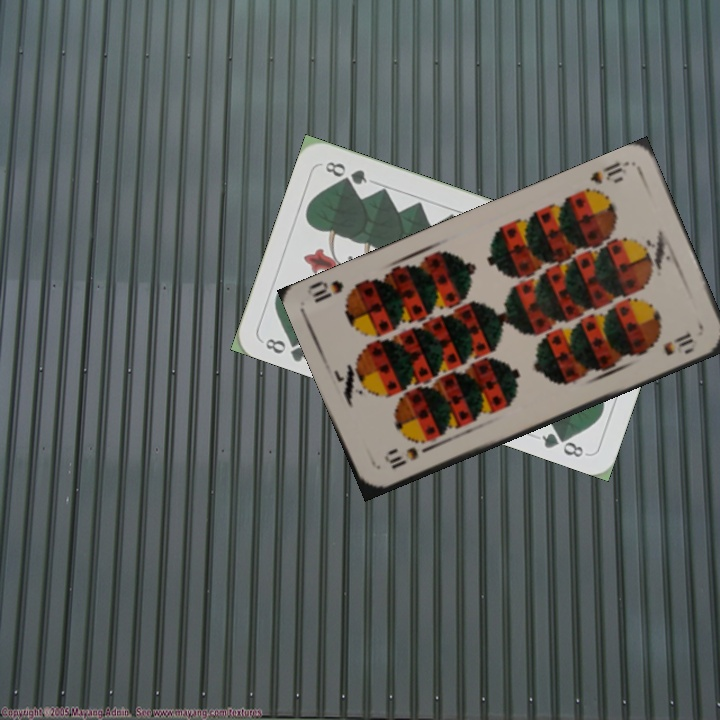G8: (261, 332, 310, 365)
S10: (381, 441, 434, 472), (586, 157, 630, 187)
